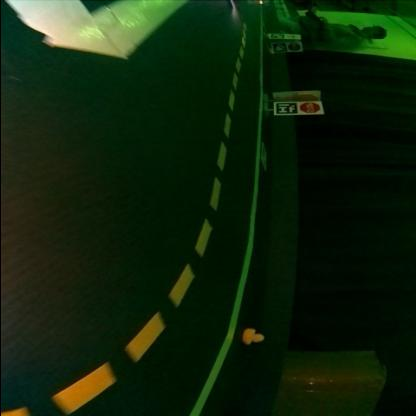Duckie: (242, 329, 263, 346)
QR code: (274, 102, 298, 116), (261, 142, 267, 170), (272, 44, 286, 52), (270, 34, 286, 40)
Stop sign: (299, 102, 323, 115), (288, 44, 302, 52)
